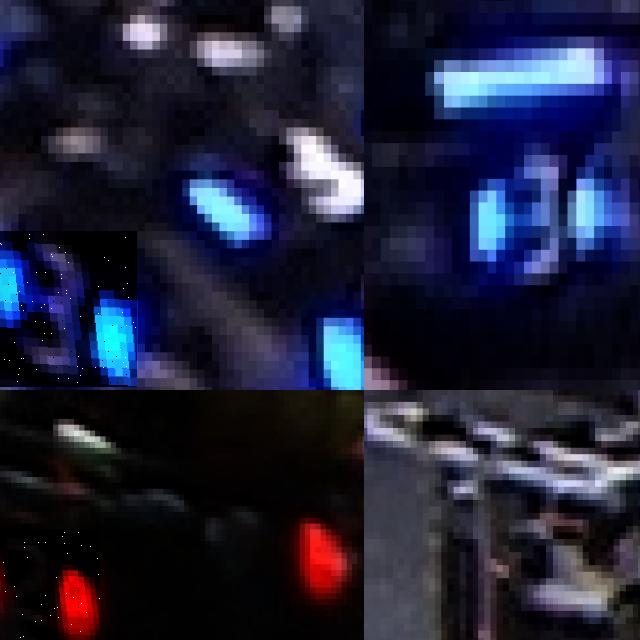B3: (461, 132, 612, 286), (0, 231, 137, 386)
R2: (0, 529, 100, 639)
